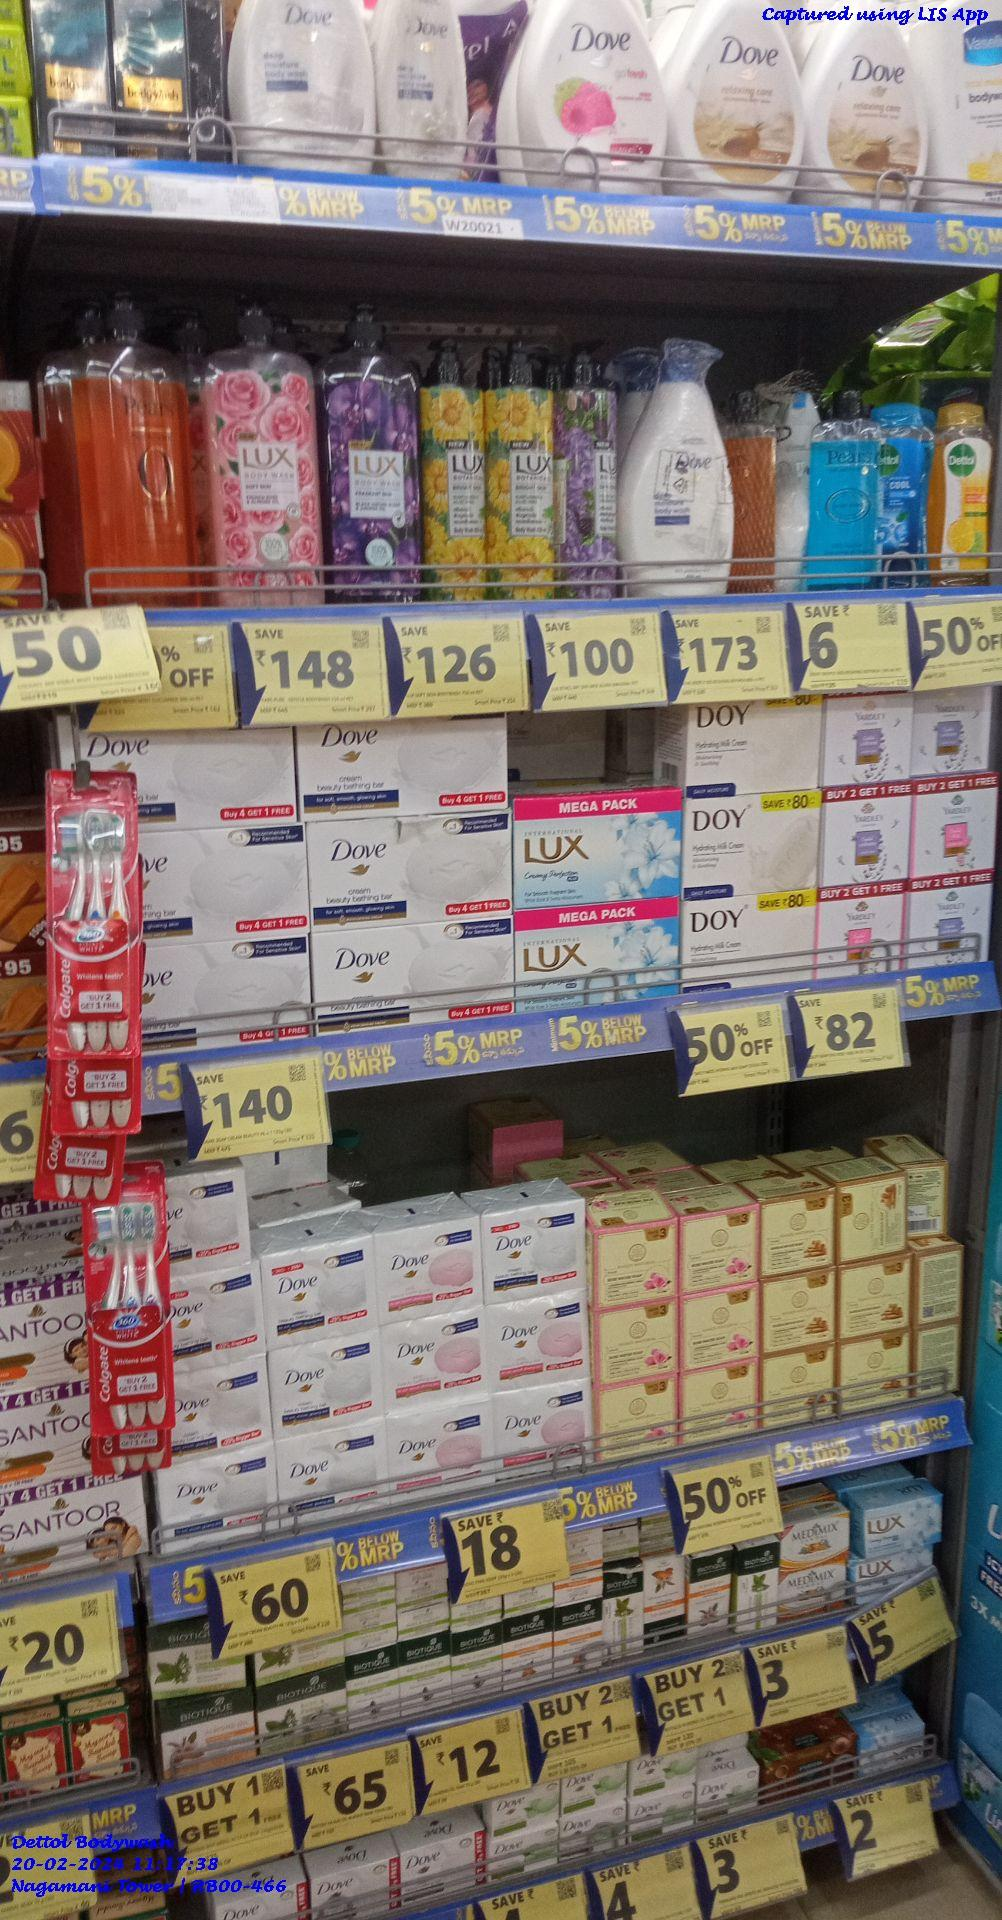Dettol_Bodywash_Cool: (884, 399, 922, 584)
Dettol_Bodywash_Refresh: (935, 394, 996, 585)
Pears_Pure_Glycerin_and_Mint_Extracts_Body_Wash_250ML: (809, 401, 878, 592)
